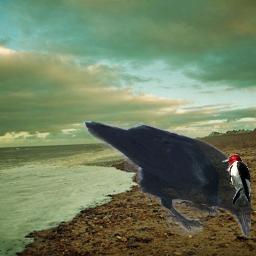Crow: (83, 121, 251, 237)
Woodpecker: (221, 154, 251, 204)
